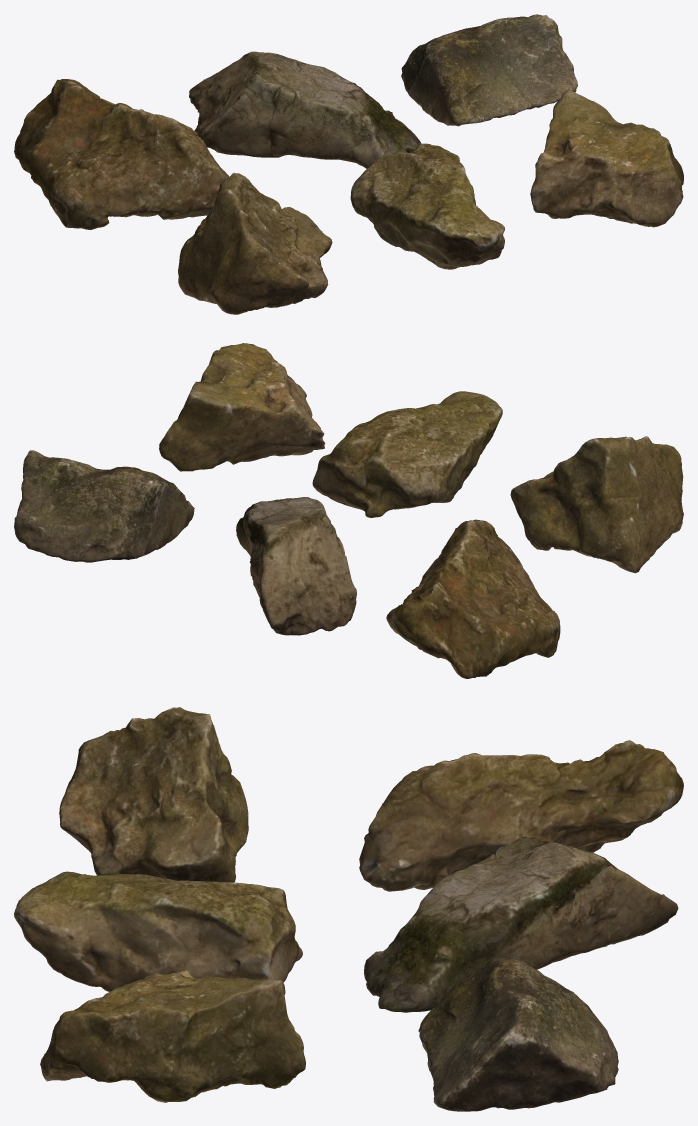
The model's file is rock_moss_set_01.glb.
The picture shows the model from 3 angles, top to bottom: view 1: azimuth 30°, elevation 25°; view 2: azimuth 150°, elevation 25°; view 3: azimuth 270°, elevation 25°; orthographic projection. The views are drawn at different scales.
Visible parts, largest first — view 1: rock_moss_set_01_rock01, rock_moss_set_01_rock02, rock_moss_set_01_rock06, rock_moss_set_01_rock04, rock_moss_set_01_rock03, rock_moss_set_01_rock05; view 2: rock_moss_set_01_rock04, rock_moss_set_01_rock01, rock_moss_set_01_rock05, rock_moss_set_01_rock03, rock_moss_set_01_rock06, rock_moss_set_01_rock02; view 3: rock_moss_set_01_rock01, rock_moss_set_01_rock02, rock_moss_set_01_rock05, rock_moss_set_01_rock04, rock_moss_set_01_rock06, rock_moss_set_01_rock03.
Part boxes in pixels (bbox=[...]): rock_moss_set_01_rock01: bbox=[14, 79, 229, 229]; rock_moss_set_01_rock02: bbox=[189, 51, 421, 168]; rock_moss_set_01_rock06: bbox=[530, 89, 683, 227]; rock_moss_set_01_rock04: bbox=[178, 173, 332, 314]; rock_moss_set_01_rock03: bbox=[401, 14, 577, 126]; rock_moss_set_01_rock05: bbox=[350, 143, 504, 269]; rock_moss_set_01_rock04: bbox=[510, 436, 683, 573]; rock_moss_set_01_rock01: bbox=[386, 519, 560, 678]; rock_moss_set_01_rock05: bbox=[312, 391, 502, 517]; rock_moss_set_01_rock03: bbox=[14, 450, 194, 562]; rock_moss_set_01_rock06: bbox=[159, 343, 325, 471]; rock_moss_set_01_rock02: bbox=[236, 497, 356, 635]; rock_moss_set_01_rock01: bbox=[359, 740, 683, 891]; rock_moss_set_01_rock02: bbox=[364, 836, 678, 1012]; rock_moss_set_01_rock05: bbox=[14, 871, 302, 991]; rock_moss_set_01_rock04: bbox=[59, 707, 248, 882]; rock_moss_set_01_rock06: bbox=[40, 970, 305, 1102]; rock_moss_set_01_rock03: bbox=[418, 956, 618, 1111].
Bounding box in the file's own units: 8 × 1.77 × 6.95.
1 material, 1 textured.
